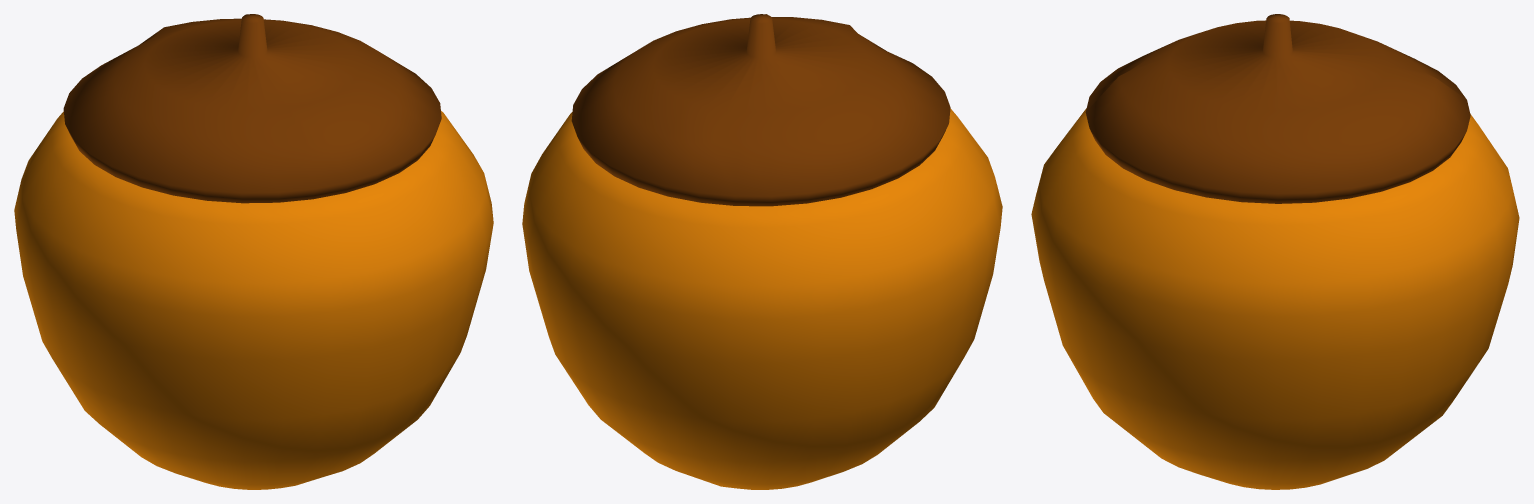
Rendered from acorn.gltf.
The picture shows the model from 3 angles, left to right: view 1: azimuth 30°, elevation 25°; view 2: azimuth 150°, elevation 25°; view 3: azimuth 270°, elevation 25°; orthographic projection.
Visible parts, largest first — view 1: Sphere.001; view 2: Sphere.001; view 3: Sphere.001.
Boxes of the visible parts, x1,y1,x2,y2 form: Sphere.001: (14,14,493,489); Sphere.001: (522,14,1002,489); Sphere.001: (1031,14,1519,489).
Size of the model in its own units: 0.5973 by 0.648 by 0.6088.
